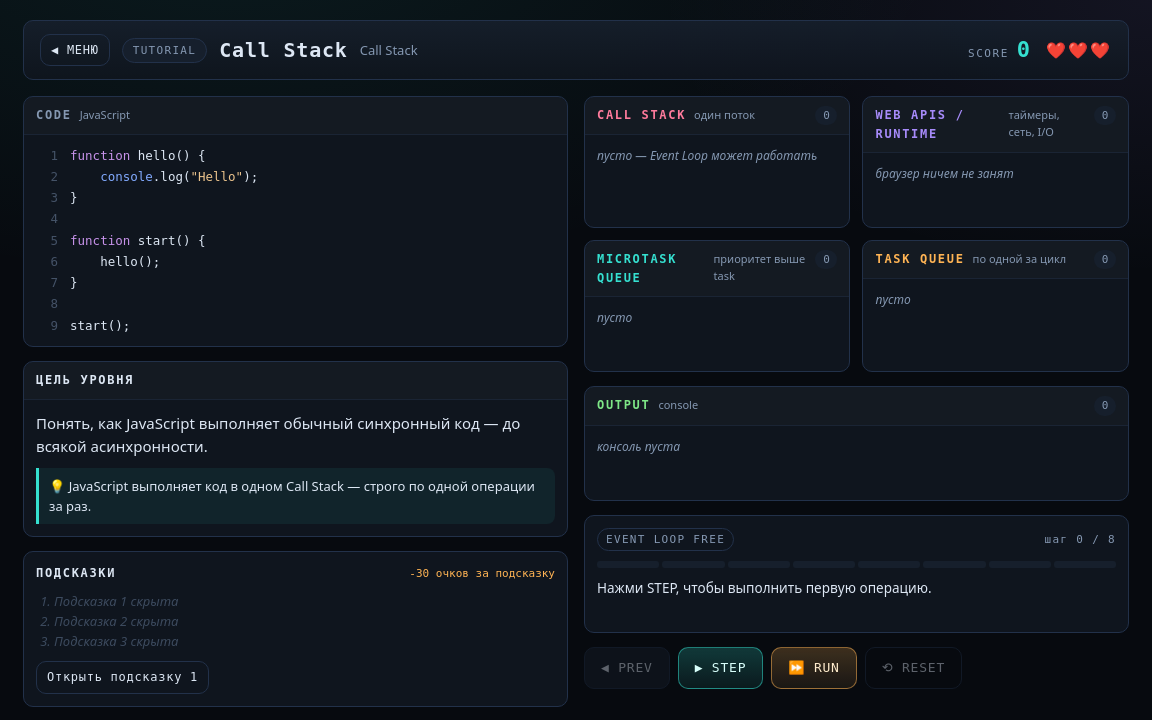
экран уровня › шаги симуляции › PREV и RESET отматывают симуляцию назад
Click the button "▶ STEP" at (720,668), box x1=678 y1=647 x2=763 y2=689
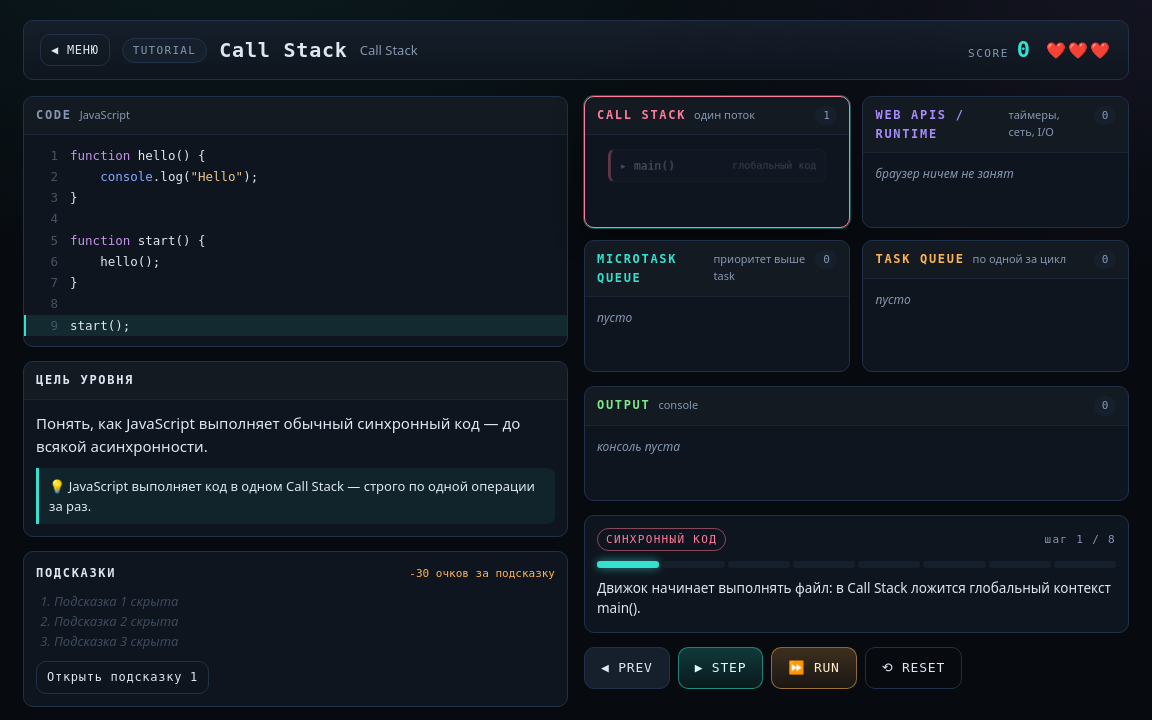
Click the button "◀ PREV" at (627,668), box x1=584 y1=647 x2=670 y2=689
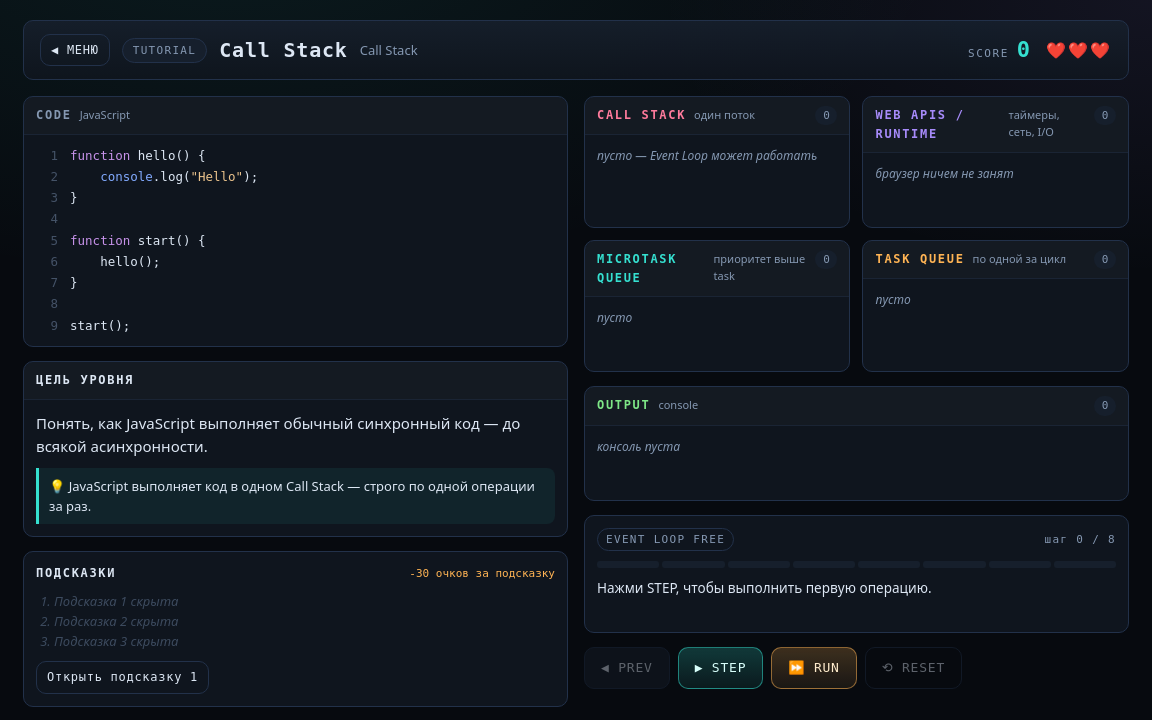
Click the button "▶ STEP" at (720,668), box x1=678 y1=647 x2=763 y2=689
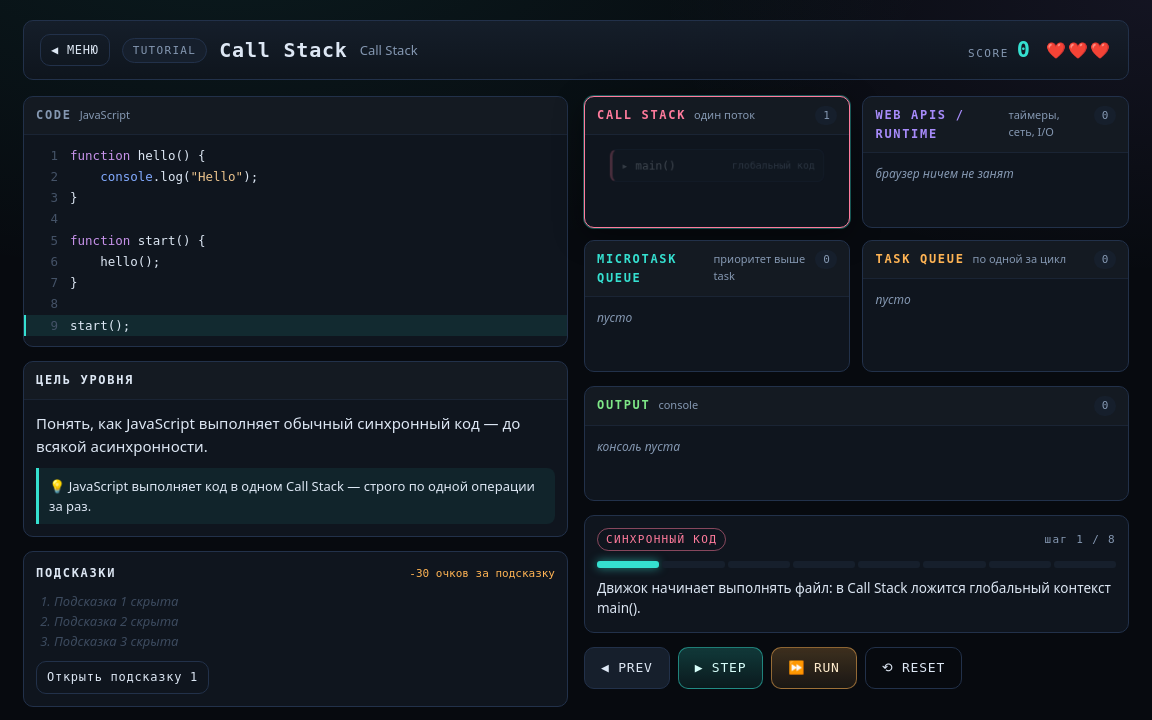
Click the button "⟲ RESET" at (913,668), box x1=865 y1=647 x2=962 y2=689
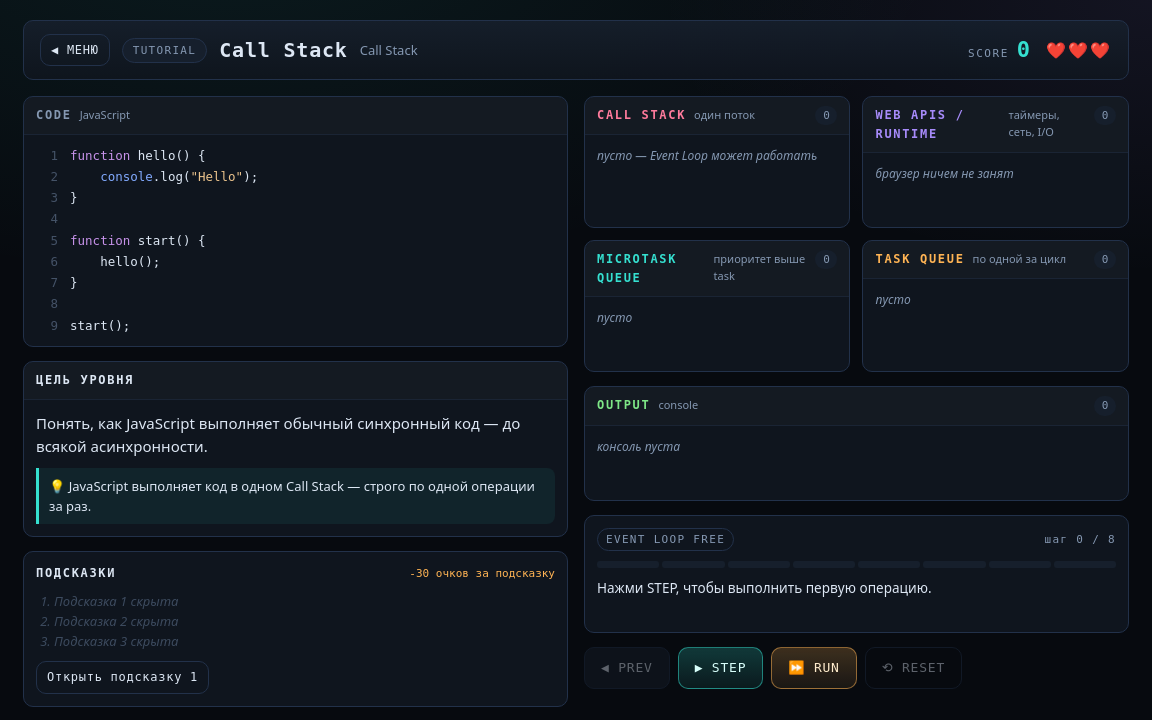
Expected: the button "⟲ RESET" is disabled, x1=865 y1=647 x2=962 y2=689
